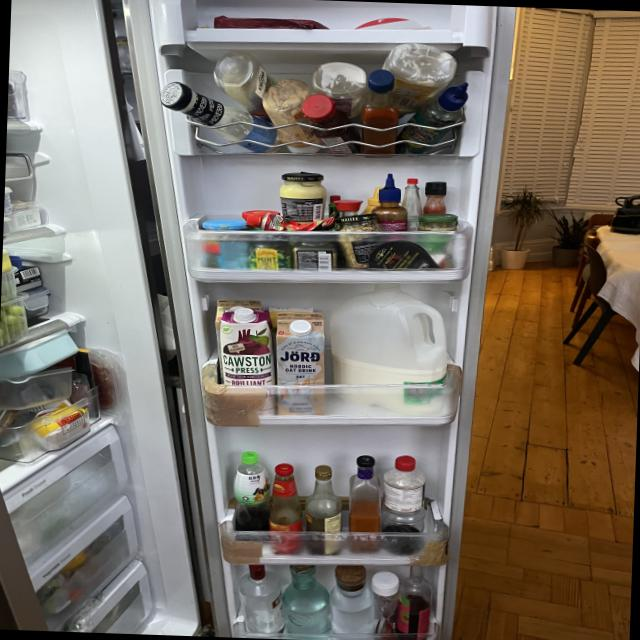Leche: (336, 302, 454, 414)
